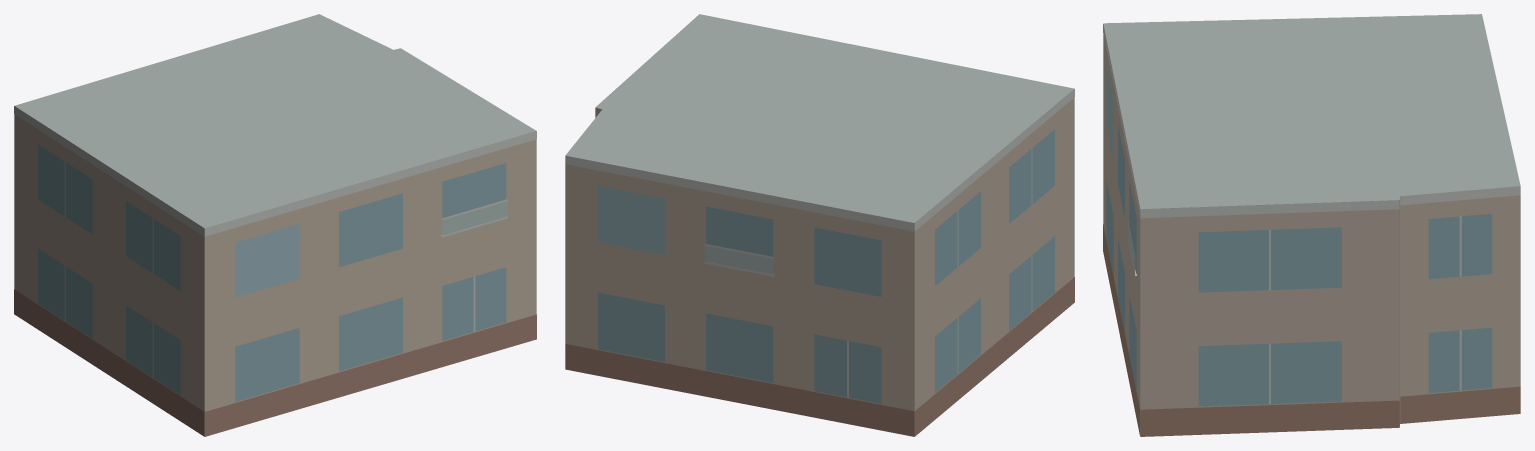
Rendered from survey-upis-32960023.glb.
3 renders of one model, left to right at view 1: azimuth 30°, elevation 25°; view 2: azimuth 150°, elevation 25°; view 3: azimuth 270°, elevation 25°, orthographic. The views are drawn at different scales.
Parts seen in each view (by area): view 1: survey-upis-32960023.tmp; view 2: survey-upis-32960023.tmp; view 3: survey-upis-32960023.tmp.
Boxes of the visible parts, bbox=[...] form: survey-upis-32960023.tmp: bbox=[14, 14, 536, 436]; survey-upis-32960023.tmp: bbox=[565, 14, 1074, 436]; survey-upis-32960023.tmp: bbox=[1103, 14, 1520, 436].
Bounding box in the file's own units: 11.22 × 6.1 × 10.15.
